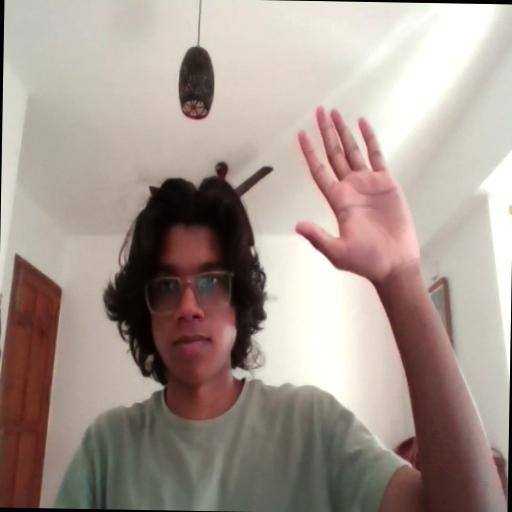Paper: (291, 100, 422, 294)
